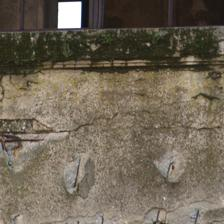Crack: (72, 91, 221, 135), (61, 156, 99, 202), (2, 116, 56, 144), (155, 148, 190, 190)
